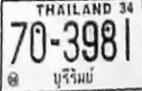0: (29, 20, 46, 62)
1: (124, 18, 129, 60)
3: (62, 19, 79, 62)
7: (10, 20, 27, 64)
8: (100, 18, 116, 61)
9: (81, 19, 97, 61)
BRM: (49, 65, 94, 89)
